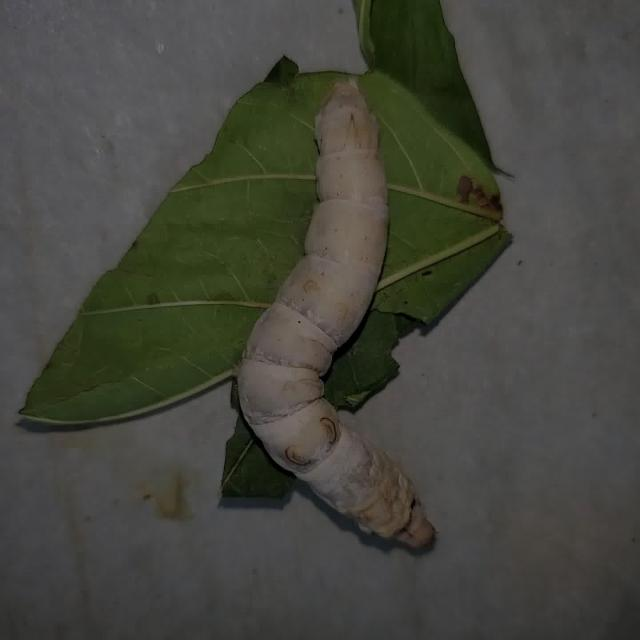Grasserie: (206, 46, 467, 571)
